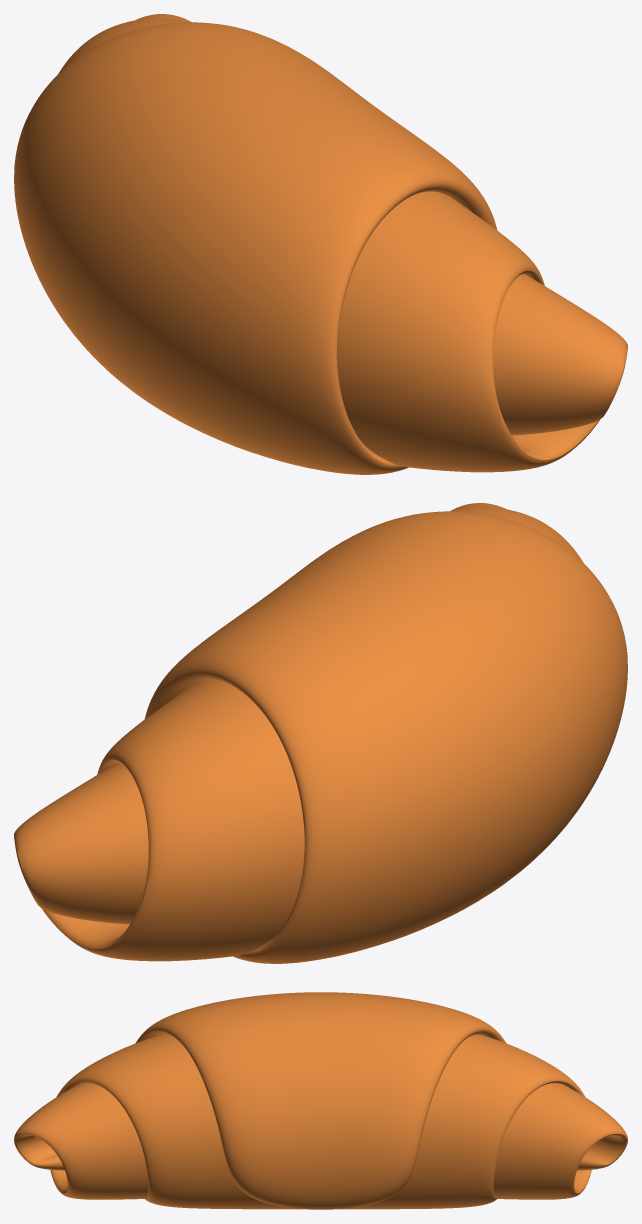
The model's file is Croissant.fbx.
3 views of the same model, one above another, from view 1: azimuth 30°, elevation 25°; view 2: azimuth 150°, elevation 25°; view 3: azimuth 270°, elevation 25° (orthographic). The views are drawn at different scales.
Parts seen in each view (by area): view 1: Plane; view 2: Plane; view 3: Plane.
Part boxes in pixels (<box>): Plane: <box>14,14,627,474</box>; Plane: <box>14,503,627,963</box>; Plane: <box>14,992,627,1209</box>.
Bounding box in the file's own units: 124 × 50.97 × 42.62.
